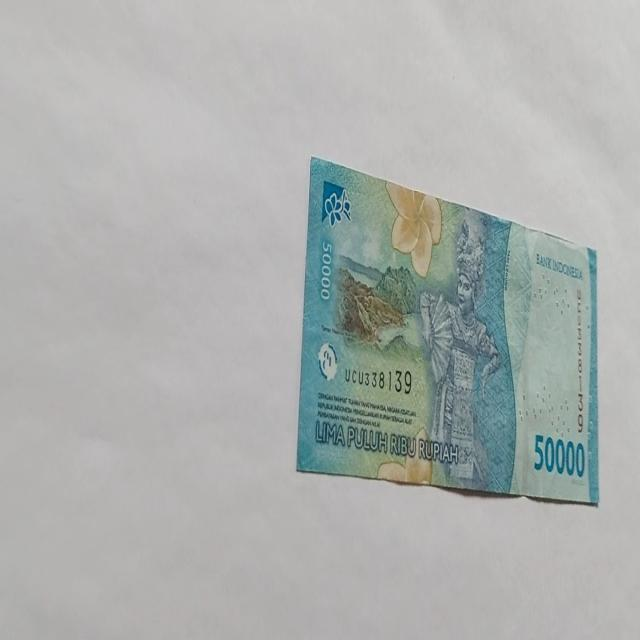lima puluh ribu rupiah: (295, 154, 599, 506)
